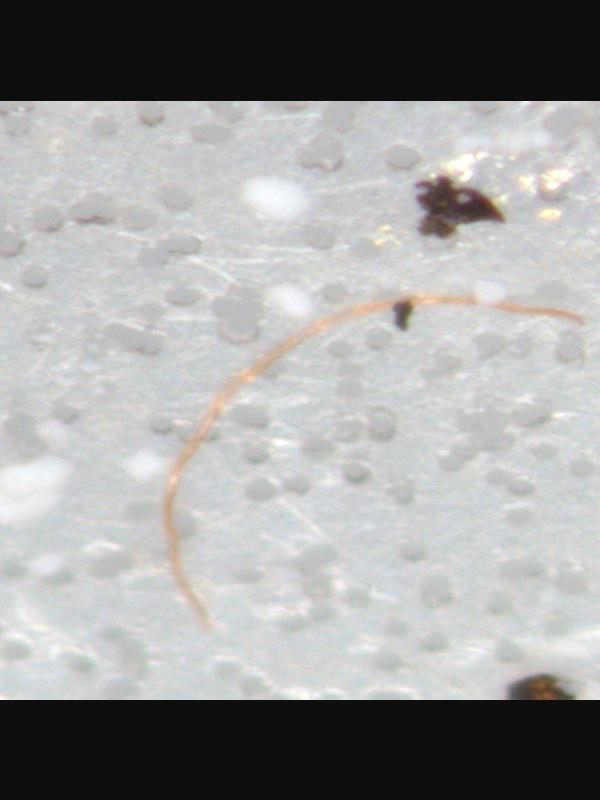microplastic: (161, 291, 589, 633), (414, 173, 509, 240), (509, 674, 581, 700)
